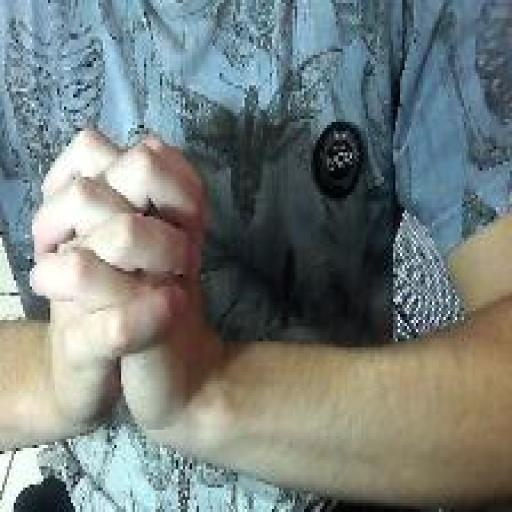Mi -snake-: (26, 120, 216, 452)
